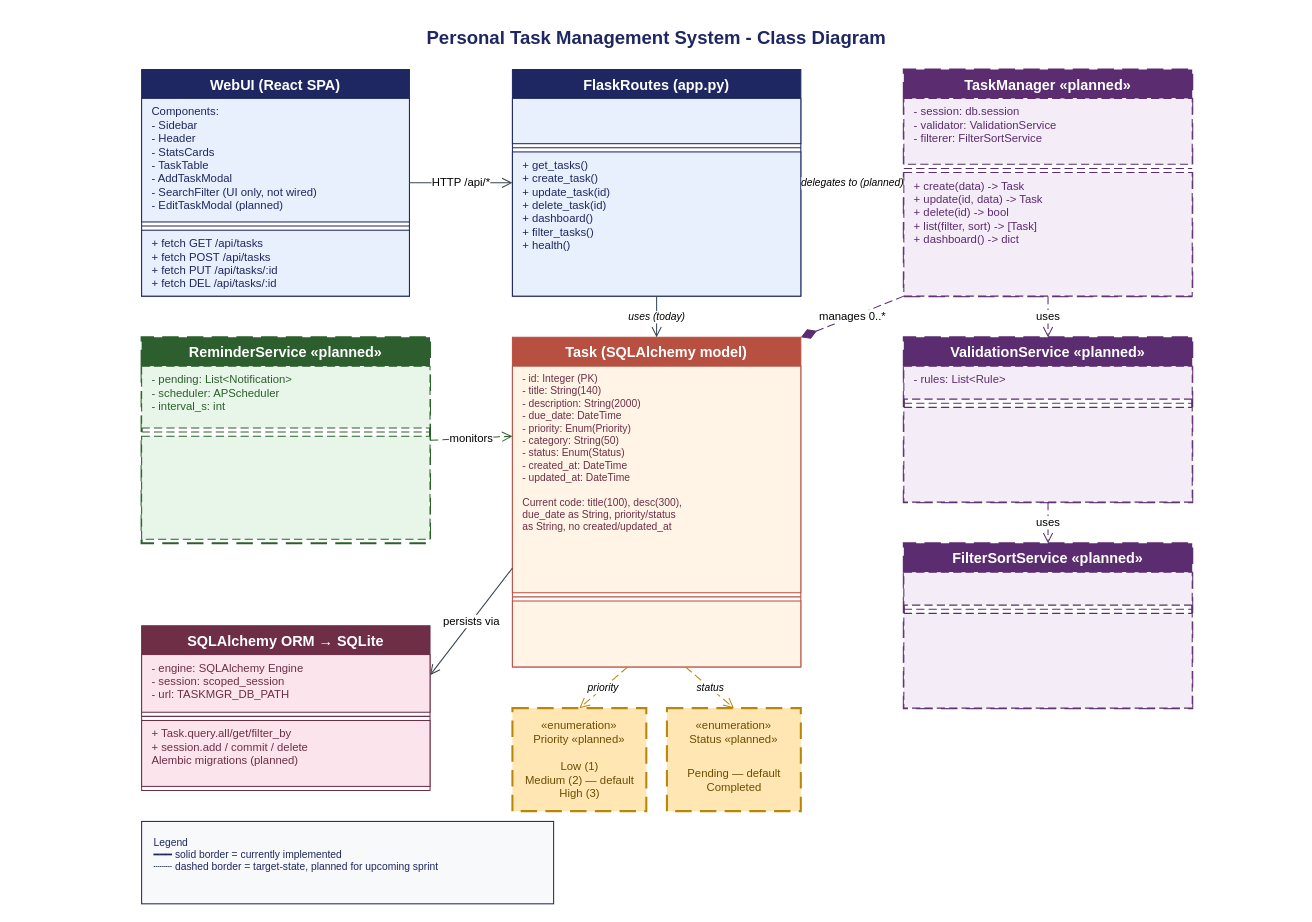
This 1312x922 diagram has some shape labels left out. Each missing label, with the centre of its shape:
(stateless): [1047,588]
+ apply_filter(query, criteria) + apply_sort(query, key, dir): [1047,660]
+ check_due_dates() + schedule_reminder(t: Task) + emit_notification(t: Task): [285,487]
+ to_dict() -> dict + is_overdue() -> bool: [656,633]
+ validate_create(data) -> [Error] + validate_update(data) -> [Error]: [1047,454]
- app: Flask - db: SQLAlchemy: [656,120]
